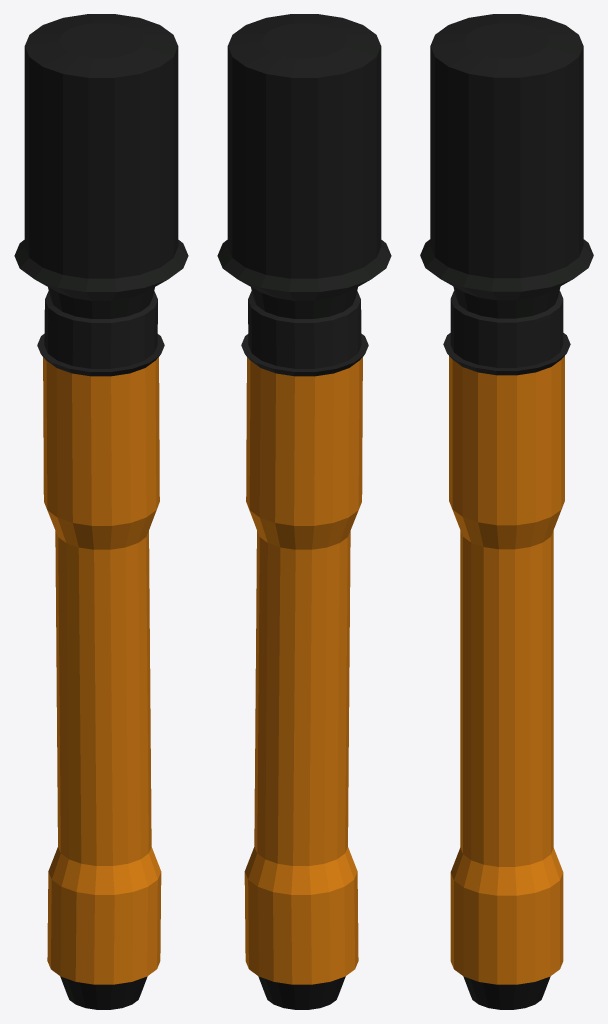
Rendered from Granadaenemiga.fbx.
3 views of the same model, side by side, from view 1: azimuth 30°, elevation 25°; view 2: azimuth 150°, elevation 25°; view 3: azimuth 270°, elevation 25° (orthographic).
Parts seen in each view (by area): view 1: Mango, Cabeza, Union, Union2, TapaAbajo; view 2: Mango, Cabeza, Union, Union2, TapaAbajo; view 3: Mango, Cabeza, Union, Union2, TapaAbajo.
Part boxes in pixels (<box>): Mango: <box>43,357,161,984</box>; Cabeza: <box>24,14,178,278</box>; Union: <box>37,291,164,376</box>; Union2: <box>14,240,188,318</box>; TapaAbajo: <box>60,976,147,1009</box>; Mango: <box>244,357,362,984</box>; Cabeza: <box>227,14,381,278</box>; Union: <box>241,291,368,376</box>; Union2: <box>217,240,391,318</box>; TapaAbajo: <box>258,976,345,1009</box>; Mango: <box>449,356,564,984</box>; Cabeza: <box>430,14,583,278</box>; Union: <box>443,291,570,375</box>; Union2: <box>420,239,593,318</box>; TapaAbajo: <box>463,976,550,1009</box>.
Bounding box in the file's own units: 77.11 × 476 × 78.3.
